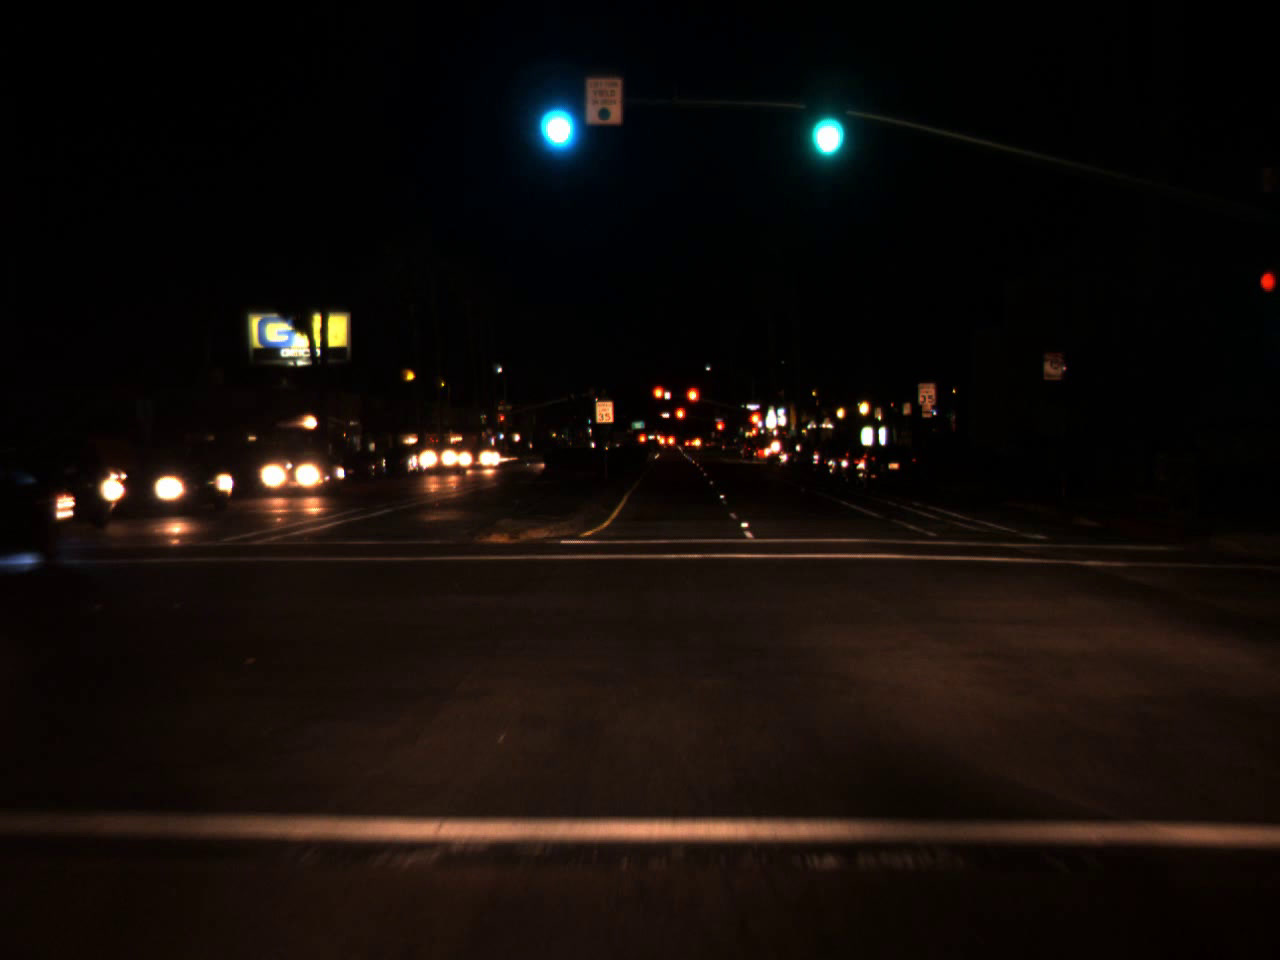go: (802, 80, 847, 167), (536, 82, 575, 154)
stop: (747, 409, 762, 441), (651, 385, 666, 412), (677, 405, 686, 432), (715, 419, 725, 438), (688, 390, 697, 408), (499, 415, 505, 425)
